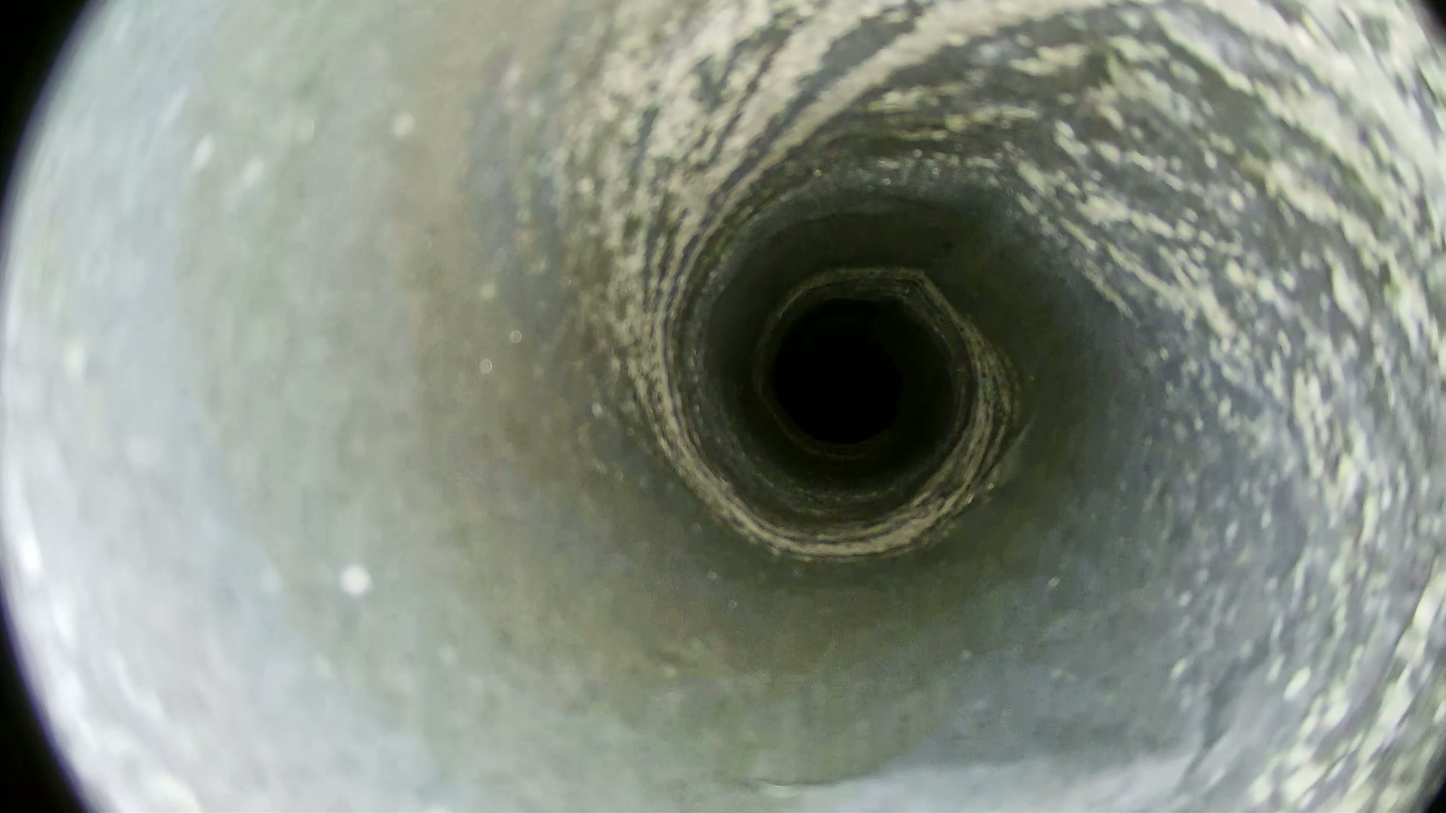hole: (779, 331, 902, 443)
